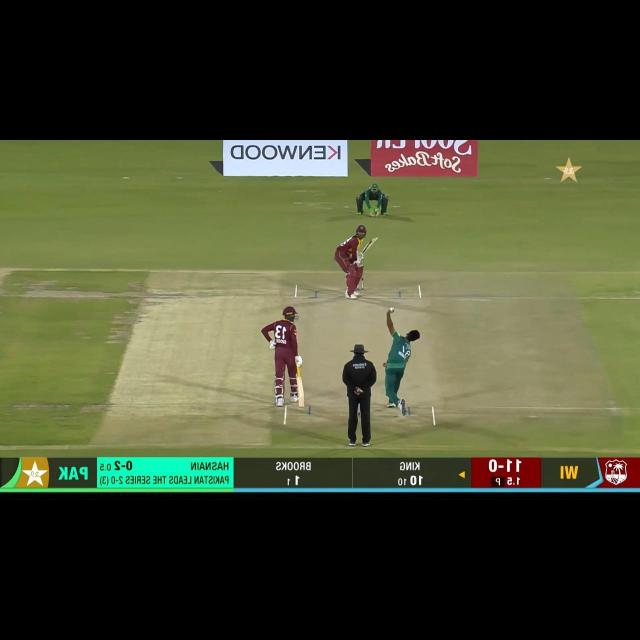bat: (360, 237, 379, 256), (295, 376, 306, 408)
toe: (370, 237, 378, 243), (297, 403, 306, 407)
